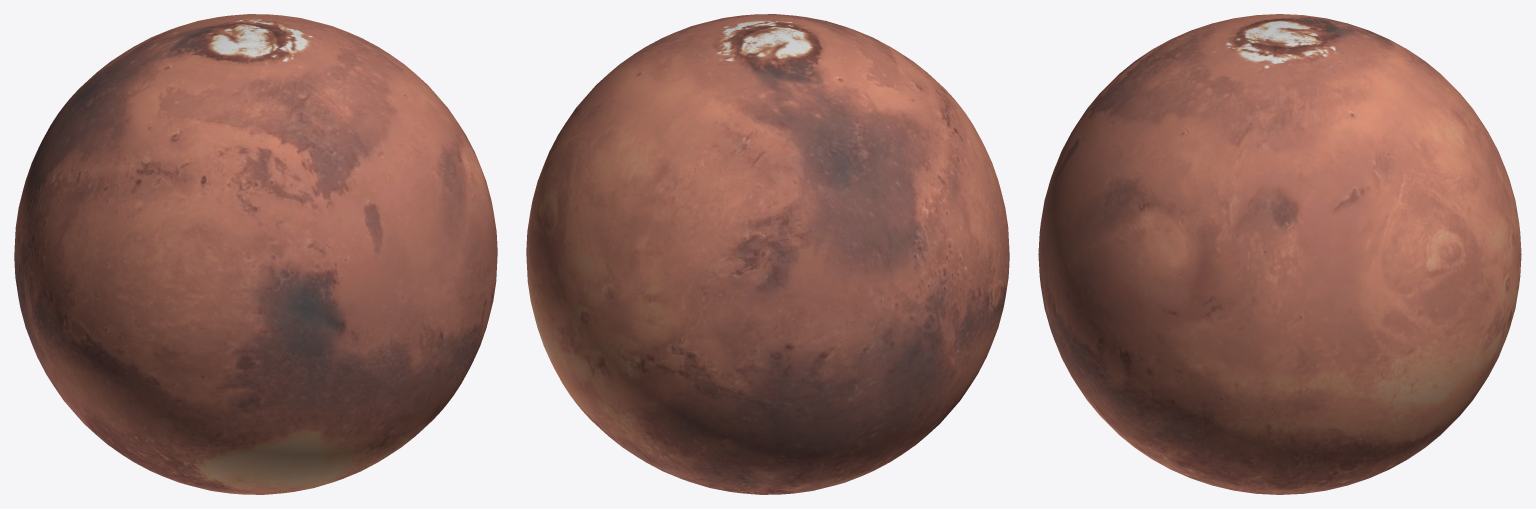
The model's file is Mars.fbx.
3 views of the same model, side by side, from view 1: azimuth 30°, elevation 25°; view 2: azimuth 150°, elevation 25°; view 3: azimuth 270°, elevation 25° (orthographic).
Parts seen in each view (by area): view 1: node_id4; view 2: node_id4; view 3: node_id4.
Part boxes in pixels (x1=…): node_id4: x1=14, y1=14, x2=497, y2=494; node_id4: x1=526, y1=14, x2=1009, y2=494; node_id4: x1=1038, y1=14, x2=1521, y2=494.
Bounding box in the file's own units: 0.512 × 0.509 × 0.512.
Materials: 1 (1 with a texture image).
